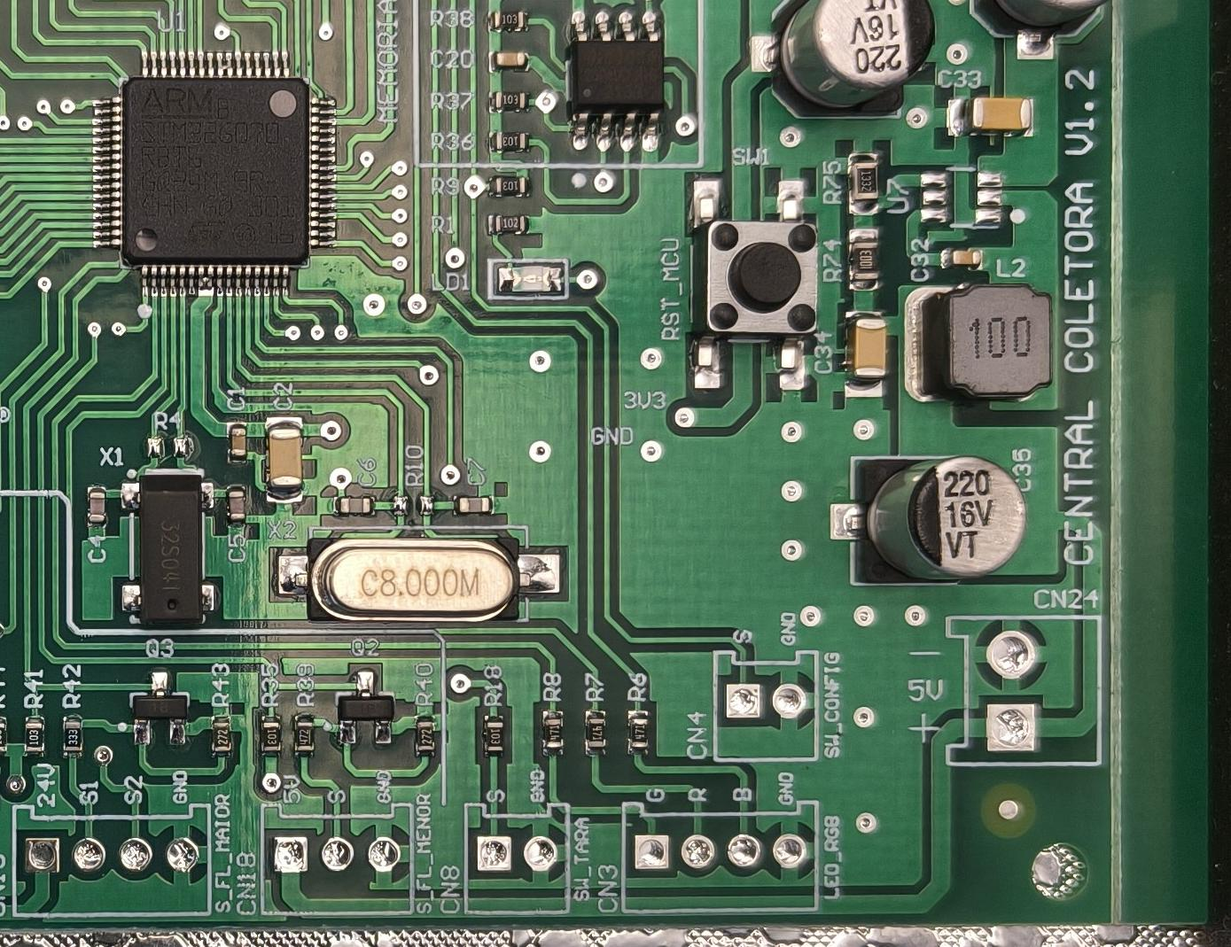C+: (945, 87, 1037, 139), (258, 413, 305, 507), (845, 306, 889, 402), (334, 490, 375, 521), (489, 49, 537, 74), (82, 485, 111, 526), (452, 492, 495, 518), (946, 244, 985, 271), (226, 421, 248, 466), (224, 485, 250, 523)
R+: (844, 150, 880, 216), (849, 227, 881, 295), (579, 707, 608, 763), (485, 86, 531, 119), (539, 706, 568, 758), (482, 4, 531, 34), (489, 128, 533, 161), (623, 705, 651, 755), (478, 713, 507, 758), (489, 172, 534, 200), (286, 713, 314, 758), (254, 711, 281, 757), (210, 716, 233, 762), (490, 207, 529, 234), (25, 714, 48, 758), (417, 714, 439, 760), (61, 714, 84, 753)
R/CFaltante: (140, 434, 198, 462), (389, 491, 435, 519)
UFaltante: (909, 161, 1007, 237)
